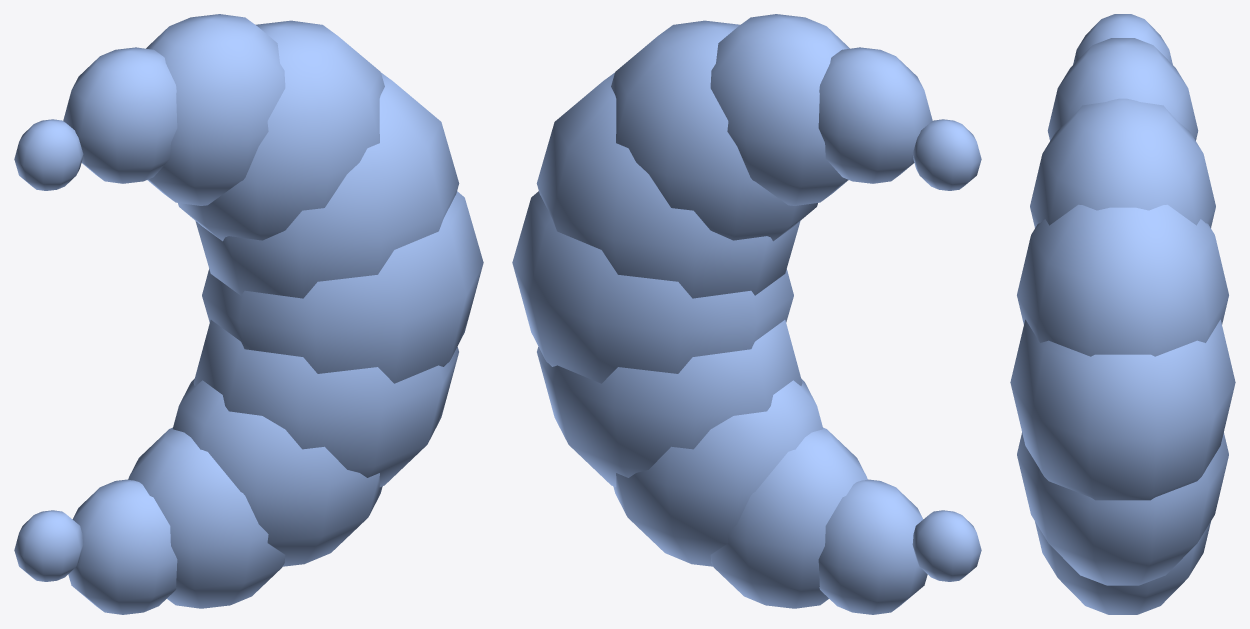
File: Fruto_MoonBloom.fbx
3 renders of one model, left to right at view 1: azimuth 30°, elevation 25°; view 2: azimuth 150°, elevation 25°; view 3: azimuth 270°, elevation 25°, orthographic. The views are drawn at different scales.
Parts seen in each view (by area): view 1: Produto_MoonBloom; view 2: Produto_MoonBloom; view 3: Produto_MoonBloom.
Boxes of the visible parts, bbox=[...] form: Produto_MoonBloom: bbox=[14, 14, 483, 614]; Produto_MoonBloom: bbox=[512, 14, 981, 614]; Produto_MoonBloom: bbox=[1010, 14, 1235, 614].
Size of the model in its own units: 0.6237 by 0.7785 by 0.288.
1 material, 1 textured.
